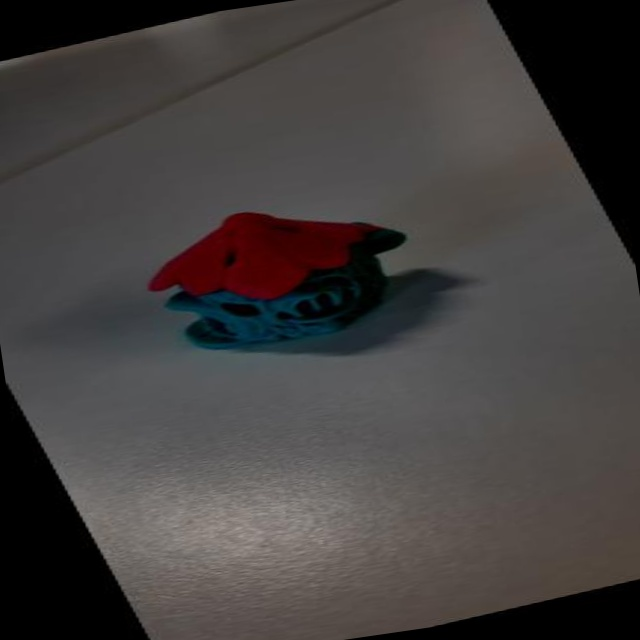House: (89, 146, 522, 403)
